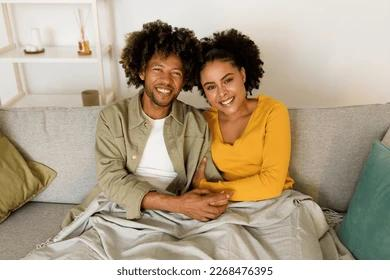blanket: (18, 189, 359, 260)
long sleeve shirt: (60, 87, 227, 223), (197, 92, 296, 208)
